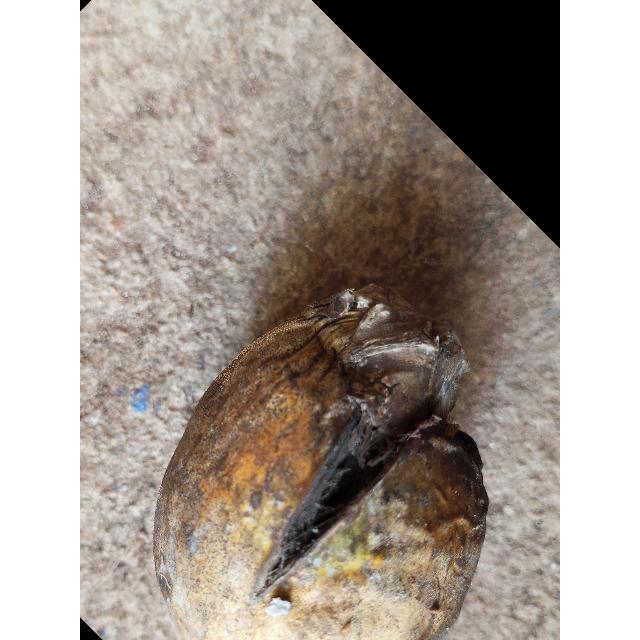damaged: (151, 288, 490, 640)
